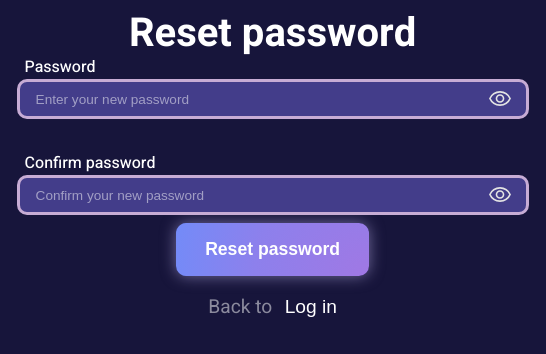
Test: ResetPasswordForm › validates password mismatch
Type "Password1" into the password field with placeholder "Enter your new password". click: {"x": 273, "y": 99}
box: left=17, top=79, right=529, bottom=119
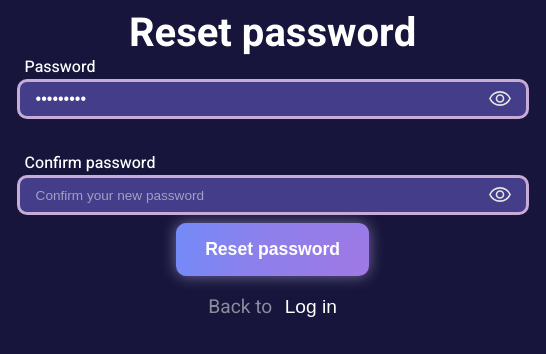
Type "Different1" into the password field with placeholder "Confirm your new password". click: {"x": 273, "y": 195}
box: left=17, top=175, right=529, bottom=215
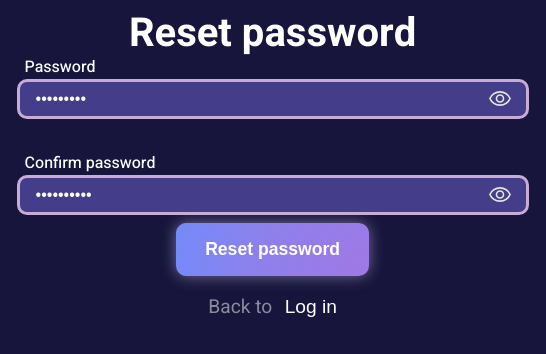
Click the button "Reset password". click: {"x": 273, "y": 249}
box: left=176, top=223, right=369, bottom=276
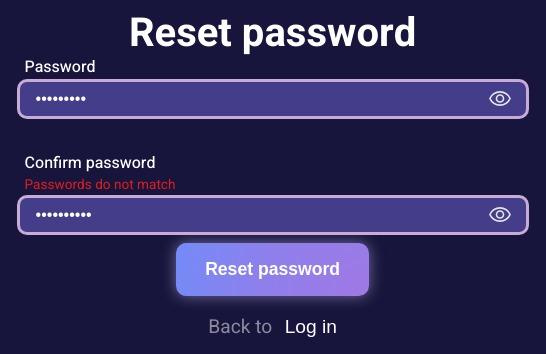
expect the text "Passwords do not match" is shown: met, box left=25, top=175, right=176, bottom=195
